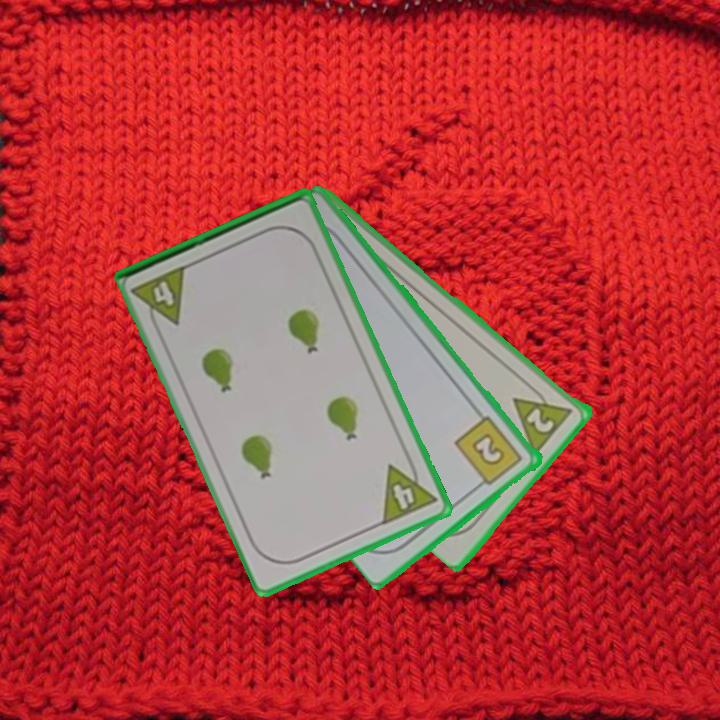2b: (451, 412, 526, 492)
2p: (509, 378, 577, 457)
4p: (378, 453, 440, 528), (129, 261, 191, 335)
